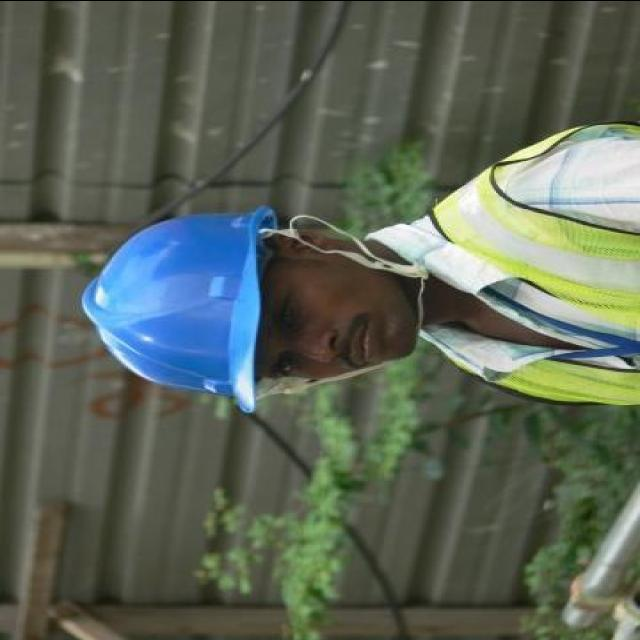helmet: (78, 198, 280, 414)
jacket: (378, 98, 640, 428)
